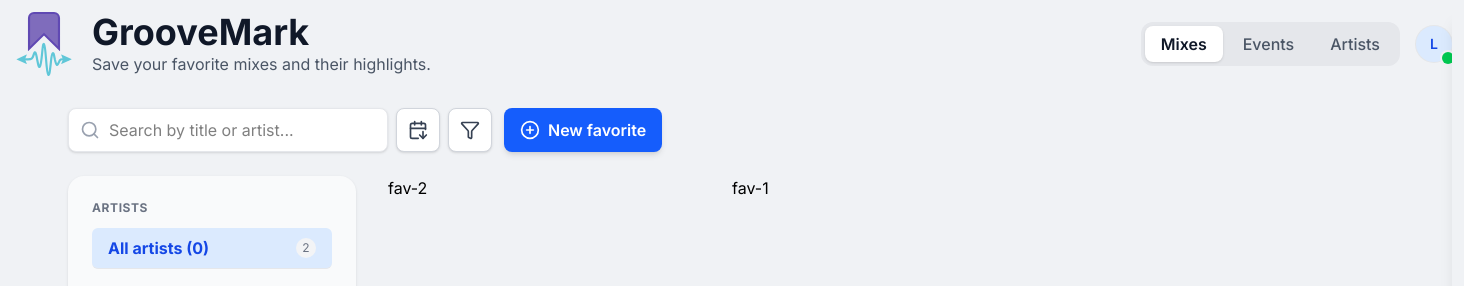
Test: MixesView › puts the sort beside the search and toggles the mixes order
Expected: the element with id "sort-btn" is shown, [68,108,492,152]
Expected: the elements with class "favorite-card" read "fav-2", "fav-1", in this order, [388,178,427,198]; [732,178,769,198]
Click the button with id "sort-btn" at x=418, y=130, box [396,108,440,152]
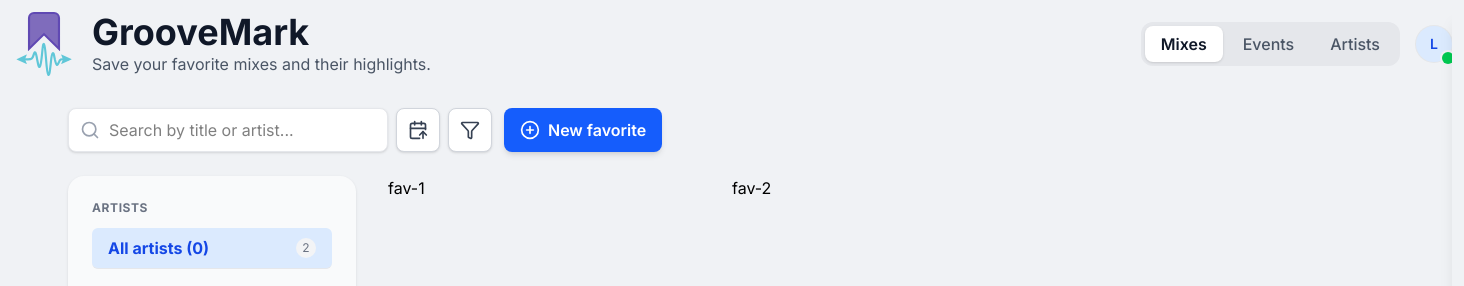
Expected: the elements with class "favorite-card" read "fav-1", "fav-2", in this order, [388,178,425,198]; [732,178,771,198]
